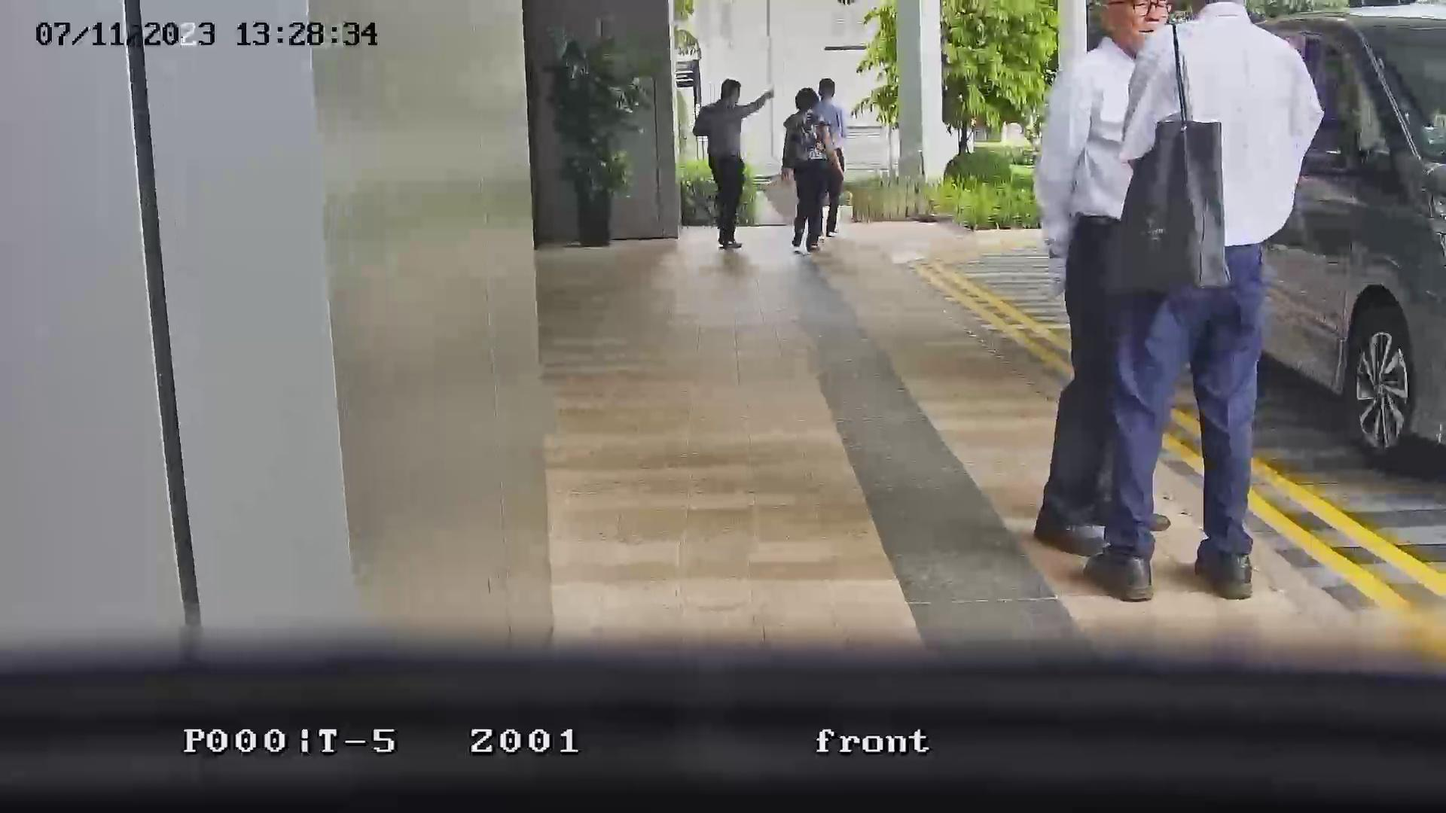person: (1082, 1, 1321, 606), (1031, 0, 1172, 566), (693, 79, 773, 251), (781, 85, 830, 254), (814, 78, 849, 239)
